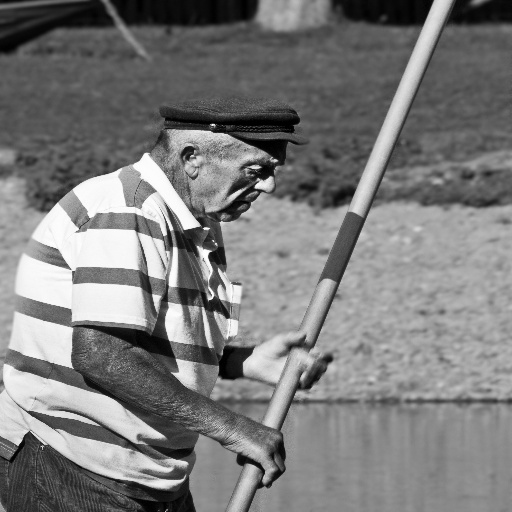hand: (197, 405, 287, 496), (239, 329, 336, 393)
